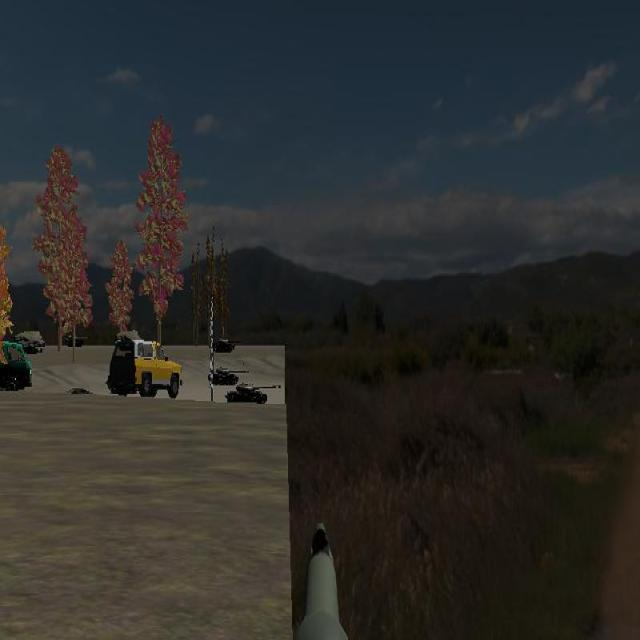Tank: (226, 381, 281, 405), (208, 364, 249, 386)
car: (107, 339, 182, 398), (0, 341, 32, 391)
